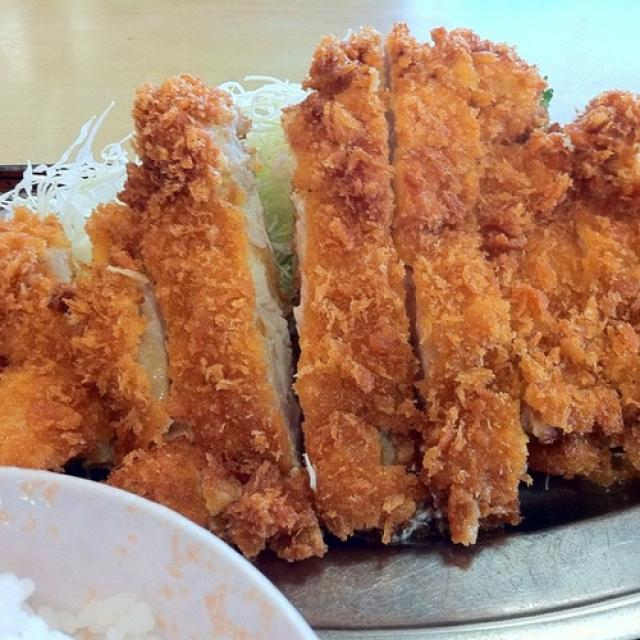鸡肉料理 含炸鸡: (36, 42, 637, 552)
